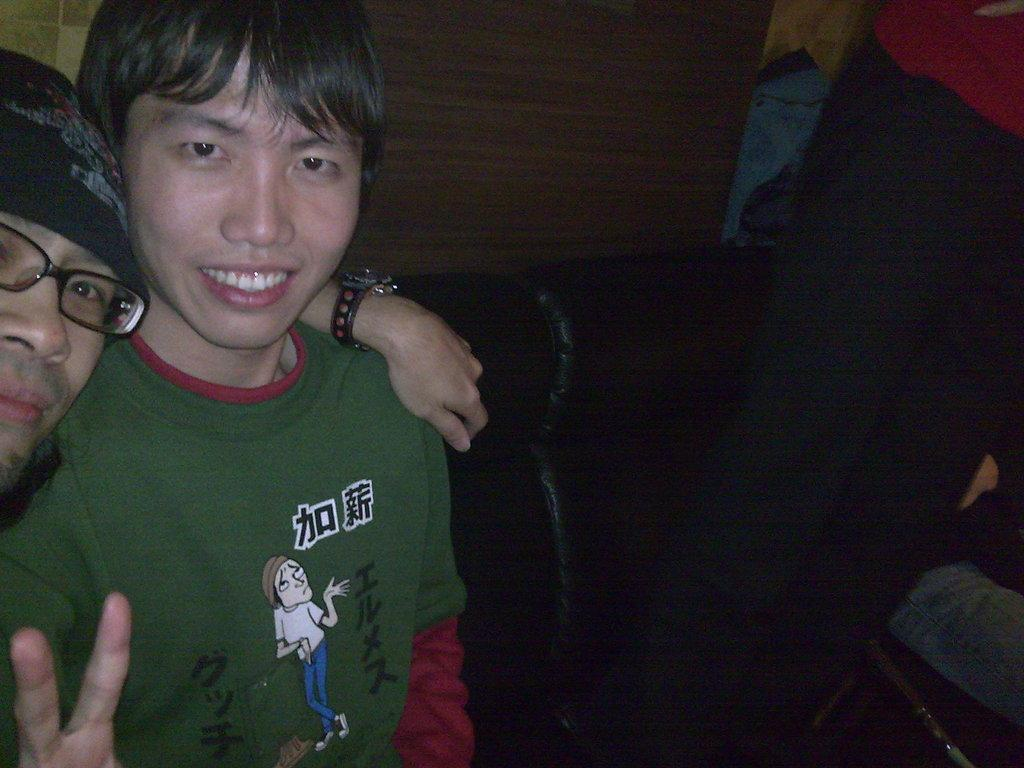Sem Máscara: (123, 42, 365, 344), (0, 207, 143, 509), (270, 559, 311, 601)
